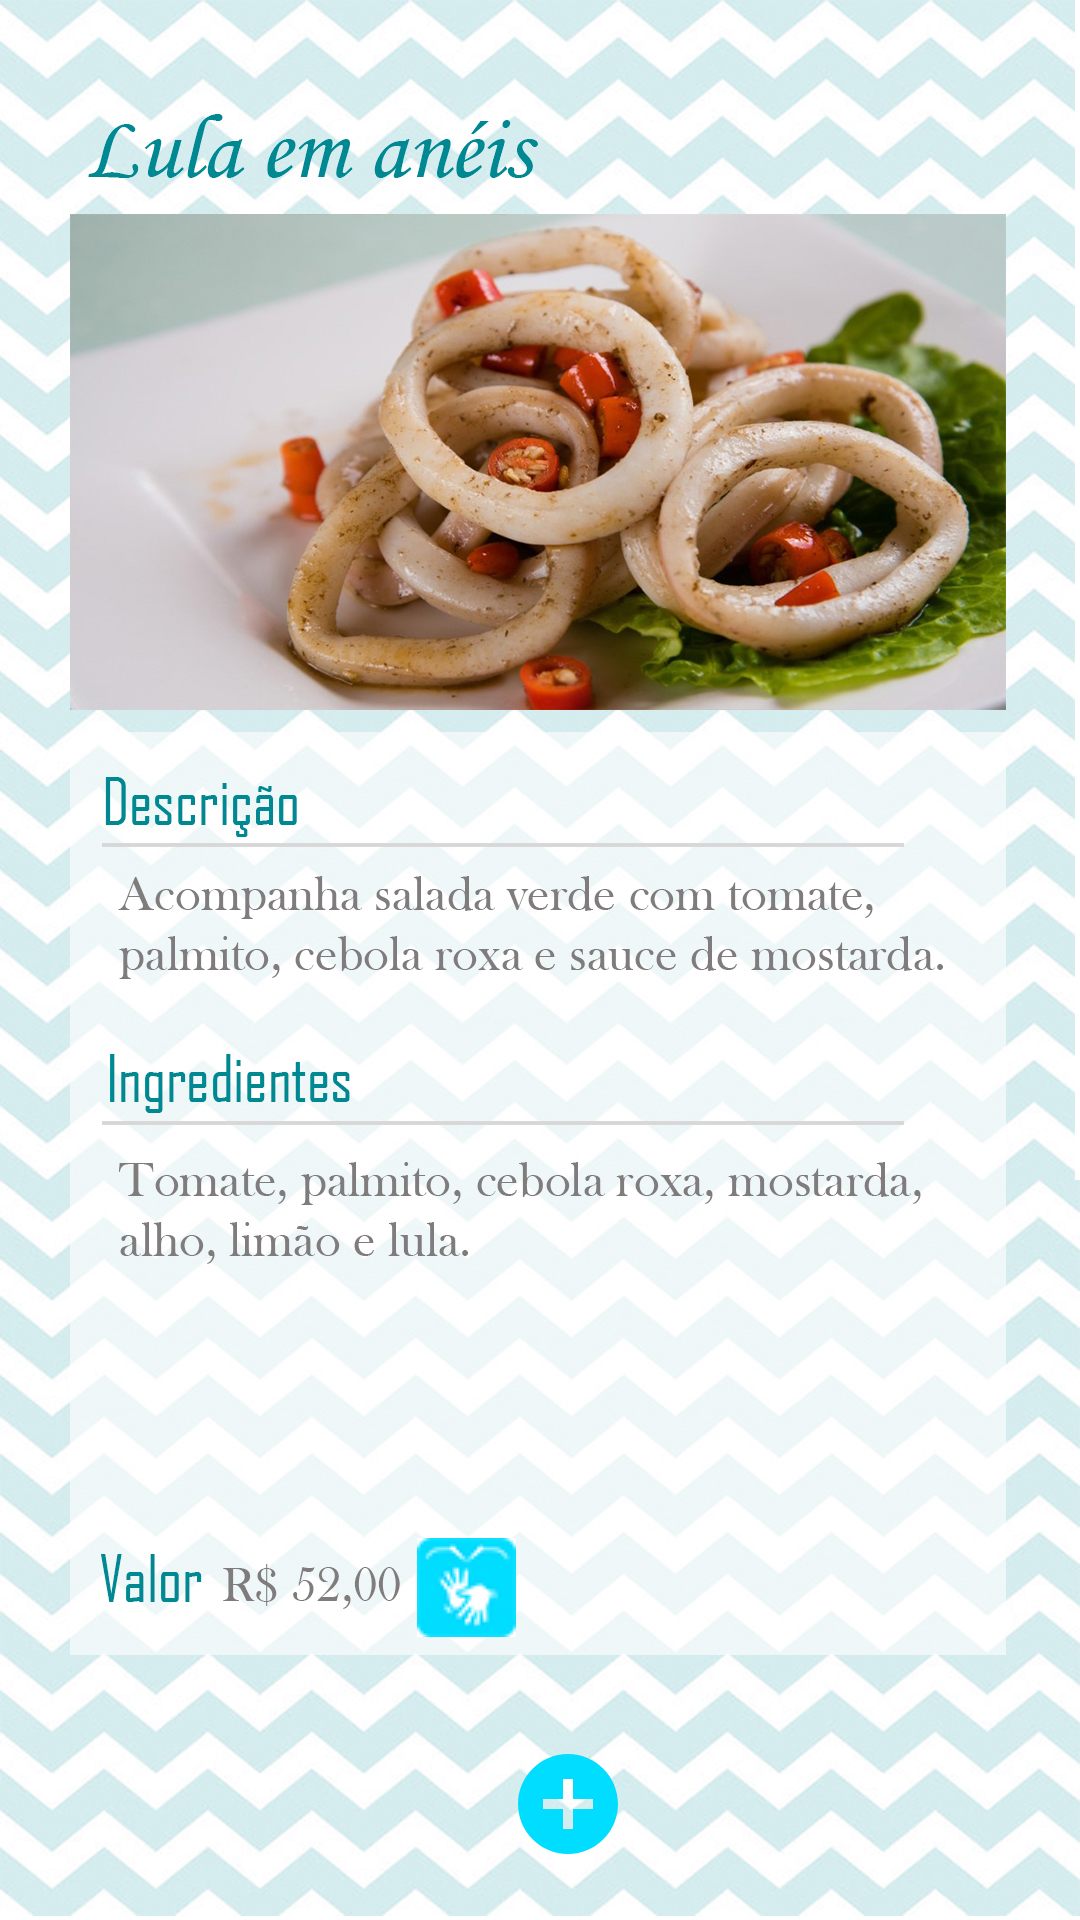

Named icons in this screenshot (1080×1920) and their centers, (x,y):
add: (567,1804)
